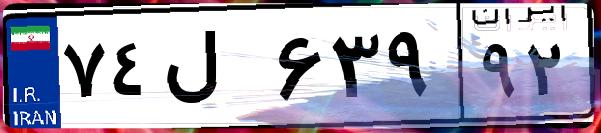2: (525, 38, 570, 115)
3: (330, 28, 385, 110)
4: (110, 28, 158, 98)
6: (270, 28, 330, 110)
7: (57, 26, 110, 100)
9: (385, 28, 445, 110), (475, 38, 525, 113)
ل: (158, 20, 270, 120)
